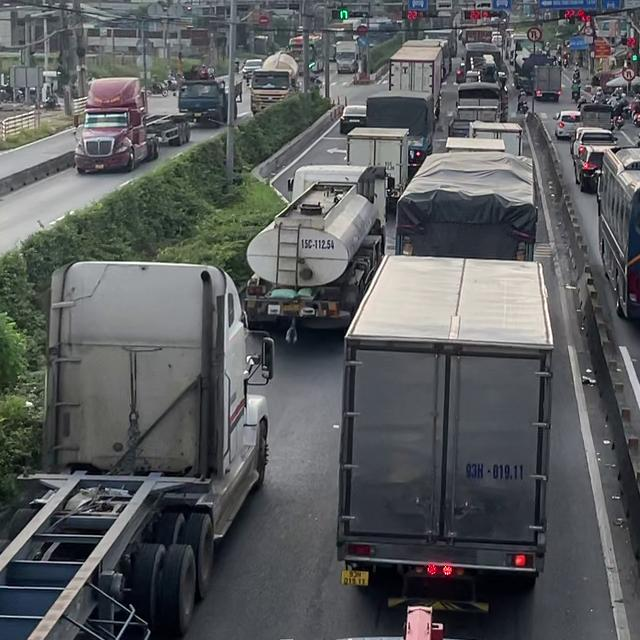car: (575, 145, 618, 193), (553, 110, 581, 139), (339, 104, 366, 134), (241, 58, 263, 80)
truck: (0, 259, 274, 639), (335, 253, 554, 594), (40, 260, 273, 480), (240, 163, 388, 343), (394, 147, 537, 261), (73, 73, 190, 174), (595, 145, 639, 322), (364, 94, 433, 173), (345, 125, 407, 208), (388, 39, 444, 119), (249, 51, 302, 115), (512, 36, 555, 93), (455, 81, 508, 122), (177, 78, 225, 123), (468, 120, 523, 156), (462, 42, 506, 85), (531, 64, 562, 101), (444, 136, 505, 153), (579, 103, 614, 131)
